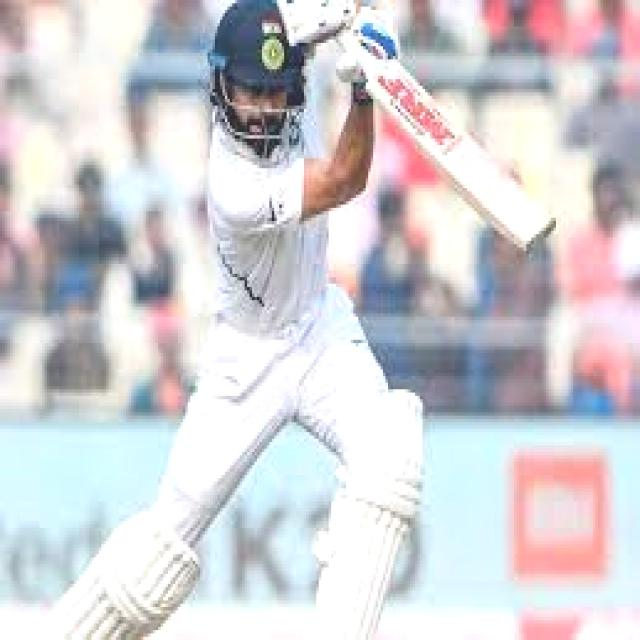toe: (492, 181, 559, 262)
